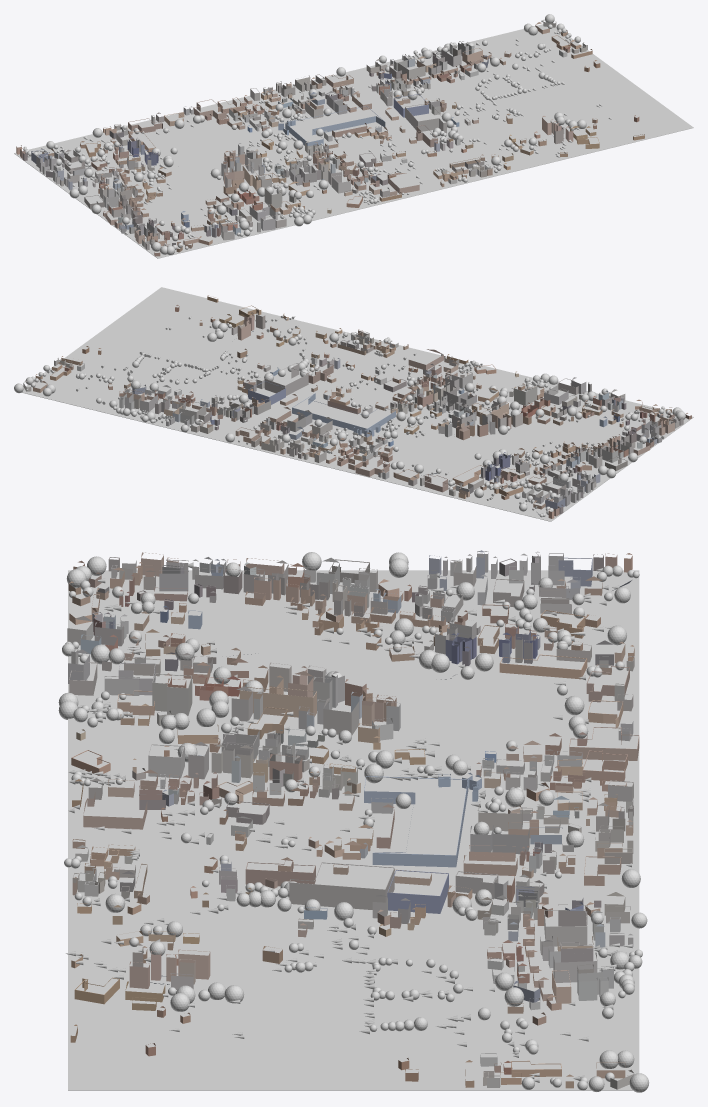
3 views of the same model, one above another, from view 1: azimuth 30°, elevation 25°; view 2: azimuth 150°, elevation 25°; view 3: azimuth 270°, elevation 25° (orthographic). The views are drawn at different scales.
Parts seen in each view (by area): view 1: Ground_Base, BLD-001, BLD-002; view 2: Ground_Base, BLD-001, BLD-002; view 3: Ground_Base, BLD-002, BLD-001, BLD-027, BLD-022, BLD-003, BLD-007, BLD-008, BLD-006, BLD-005, BLD-014, BLD-029.
Part boxes in pixels (x1,y1,x2,y2): Ground_Base: (14, 24, 693, 258); BLD-001: (285, 106, 385, 145); BLD-002: (405, 103, 446, 133); Ground_Base: (21, 287, 693, 521); BLD-001: (292, 393, 395, 433); BLD-002: (264, 363, 308, 395); Ground_Base: (68, 570, 639, 1090); BLD-002: (289, 862, 394, 909); BLD-001: (364, 776, 468, 867); BLD-027: (239, 686, 316, 717); BLD-022: (152, 673, 192, 715); BLD-003: (387, 870, 448, 913); BLD-007: (499, 654, 587, 679); BLD-008: (245, 859, 315, 886); BLD-006: (569, 727, 639, 760); BLD-005: (544, 909, 587, 946); BLD-014: (148, 744, 184, 778); BLD-029: (323, 697, 359, 735).
Size of the model in its own units: 747 by 24.53 by 353.
